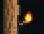torchT: (1, 0, 44, 34)
